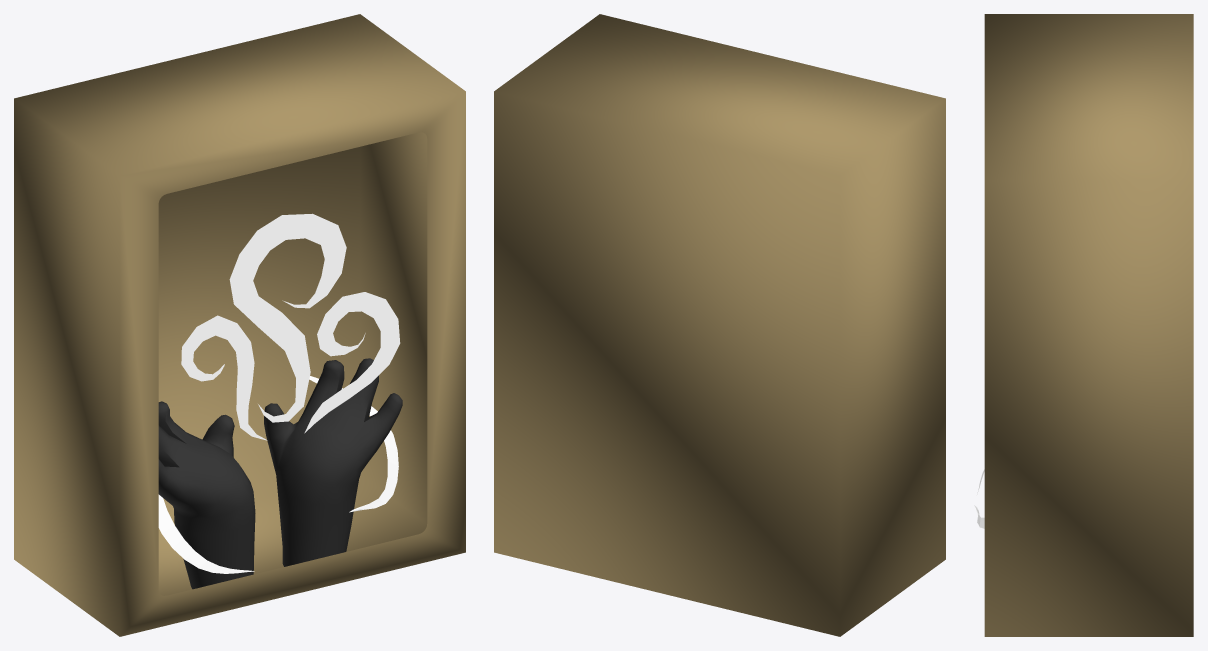
The model's file is 22_element_air.glb.
3 views of the same model, side by side, from view 1: azimuth 30°, elevation 25°; view 2: azimuth 150°, elevation 25°; view 3: azimuth 270°, elevation 25° (orthographic).
Visible parts, largest first — view 1: 22_Element_Air_bg, 22_Element_Air; view 2: 22_Element_Air_bg; view 3: 22_Element_Air_bg.
Part boxes in pixels (x1,y1,x2,y2): 22_Element_Air_bg: (14,14,465,636); 22_Element_Air: (158,213,402,589); 22_Element_Air_bg: (494,14,945,636); 22_Element_Air_bg: (984,14,1193,636).
Size of the model in its own units: 2.76 by 3.51 by 1.53.
2 materials, 2 textured.
